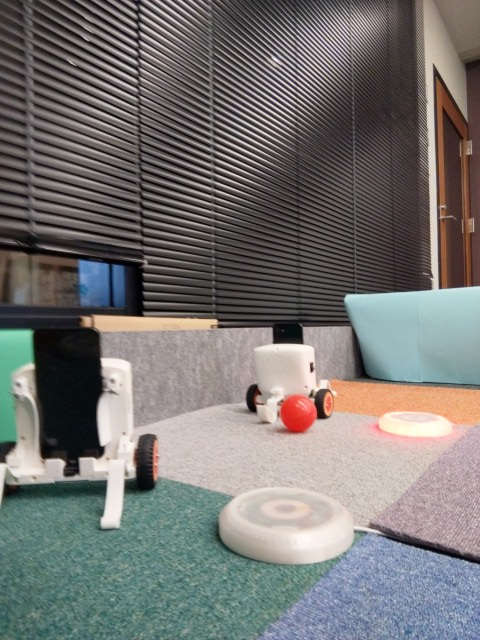br: (239, 320, 339, 428)
f: (1, 322, 160, 531)
o: (213, 484, 358, 565)
r: (374, 409, 454, 440)
